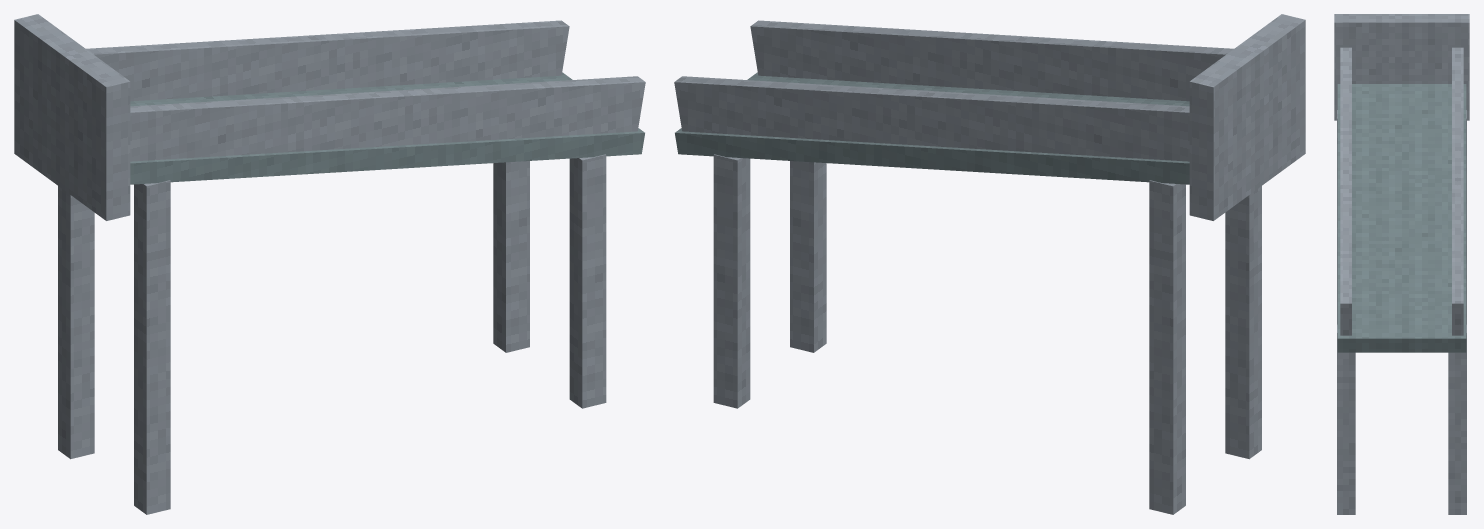
File: level_blockout_cannery_overhead_chute.glb
3 views of the same model, side by side, from view 1: azimuth 30°, elevation 25°; view 2: azimuth 150°, elevation 25°; view 3: azimuth 270°, elevation 25° (orthographic). The views are drawn at different scales.
Parts seen in each view (by area): view 1: level_blockout_cannery_overhead_chute; view 2: level_blockout_cannery_overhead_chute; view 3: level_blockout_cannery_overhead_chute.
Part boxes in pixels (box(x1,y1,x2,y2)): level_blockout_cannery_overhead_chute: box(14, 14, 645, 514); level_blockout_cannery_overhead_chute: box(674, 14, 1305, 514); level_blockout_cannery_overhead_chute: box(1334, 14, 1469, 514).
Size of the model in its own units: 2.72 by 2.1 by 0.8.
2 materials, 2 textured.
